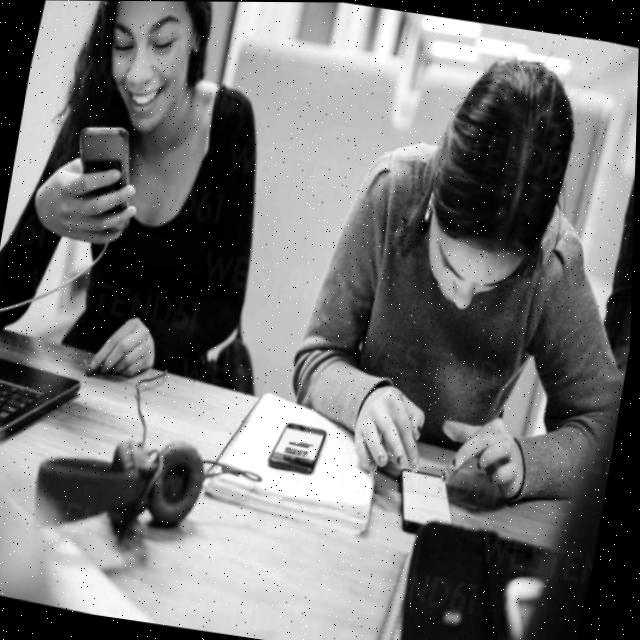phone: (60, 117, 147, 238), (389, 465, 467, 541), (269, 418, 332, 477)
